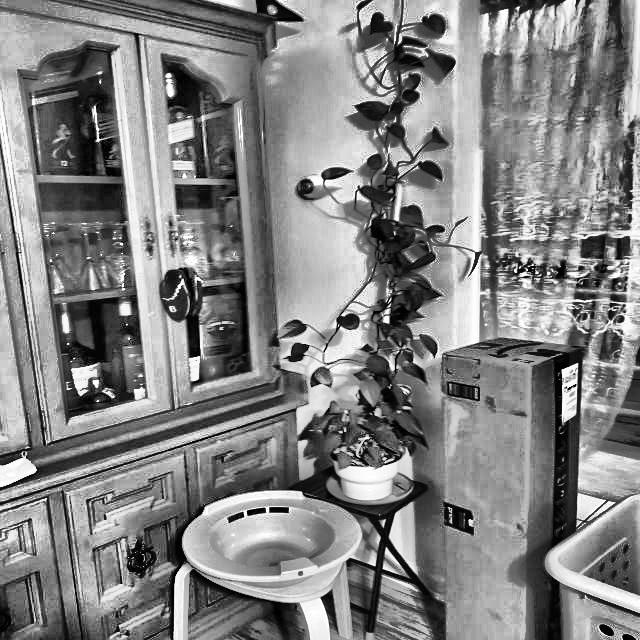plants: (326, 160, 426, 462)
